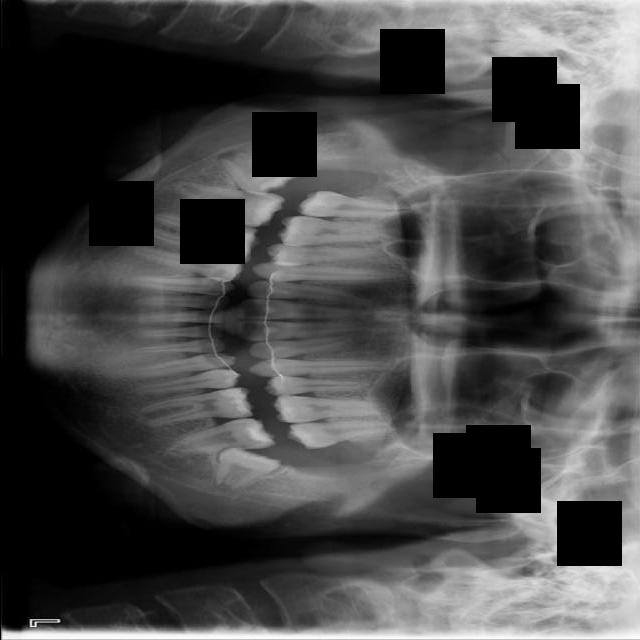73: (40, 610, 60, 620)
BioHorizons Implant: (286, 418, 395, 450)
Biomet 3i Implant: (210, 442, 281, 501)
Blue Sky Bio Implant: (162, 417, 274, 456)
Caries: (296, 190, 416, 218)
Implant: (166, 178, 284, 232)
Keystone Dental Implant: (211, 145, 299, 206)
